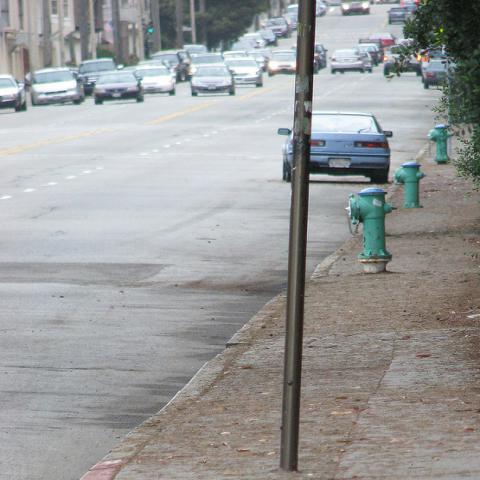car: (134, 0, 426, 83), (278, 110, 394, 183), (25, 67, 86, 107), (76, 57, 124, 98), (90, 70, 145, 104), (188, 64, 234, 96), (132, 66, 178, 98), (268, 50, 320, 76), (224, 58, 263, 87), (1, 74, 28, 113), (330, 51, 365, 74), (422, 60, 447, 88), (358, 53, 374, 73), (211, 41, 223, 52)
